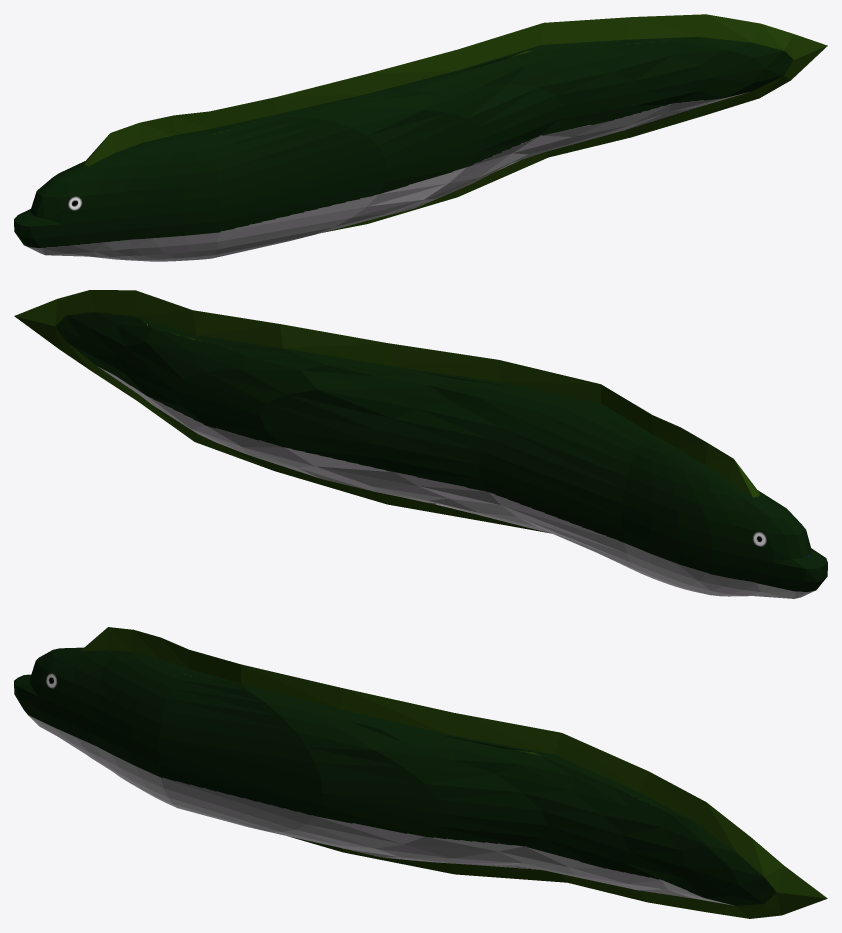
Rendered from Eel.obj.
3 views of the same model, one above another, from view 1: azimuth 30°, elevation 25°; view 2: azimuth 150°, elevation 25°; view 3: azimuth 330°, elevation 25° (orthographic). The views are drawn at different scales.
Parts seen in each view (by area): view 1: Sphere; view 2: Sphere; view 3: Sphere.
Boxes of the visible parts, x1,y1,x2,y2 form: Sphere: (14,14,827,261); Sphere: (14,290,827,598); Sphere: (14,627,827,918).
Size of the model in its own units: 9.83 by 1.85 by 1.25.
